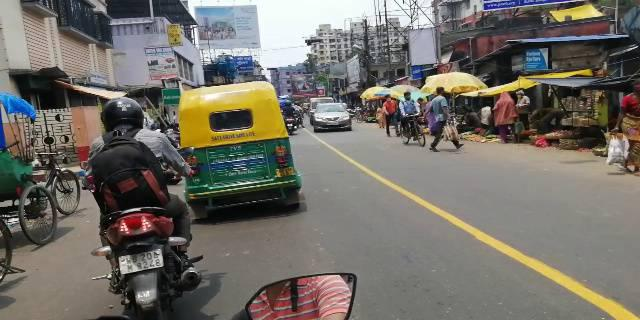Autorickshaw: (174, 80, 308, 217)
Car: (308, 100, 356, 135)
Motorbike: (76, 92, 204, 320)
